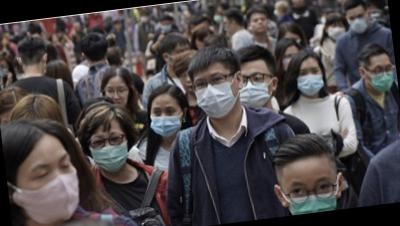with_mask: (9, 149, 85, 226), (193, 67, 242, 120), (284, 171, 342, 215), (86, 127, 132, 175), (236, 66, 275, 111), (147, 102, 185, 139), (294, 64, 327, 99), (366, 60, 397, 94), (346, 9, 370, 34), (280, 49, 301, 71), (327, 21, 348, 41), (159, 20, 174, 34)
without_mask: (104, 82, 133, 109), (178, 68, 196, 96), (249, 13, 270, 34), (222, 18, 236, 36)
